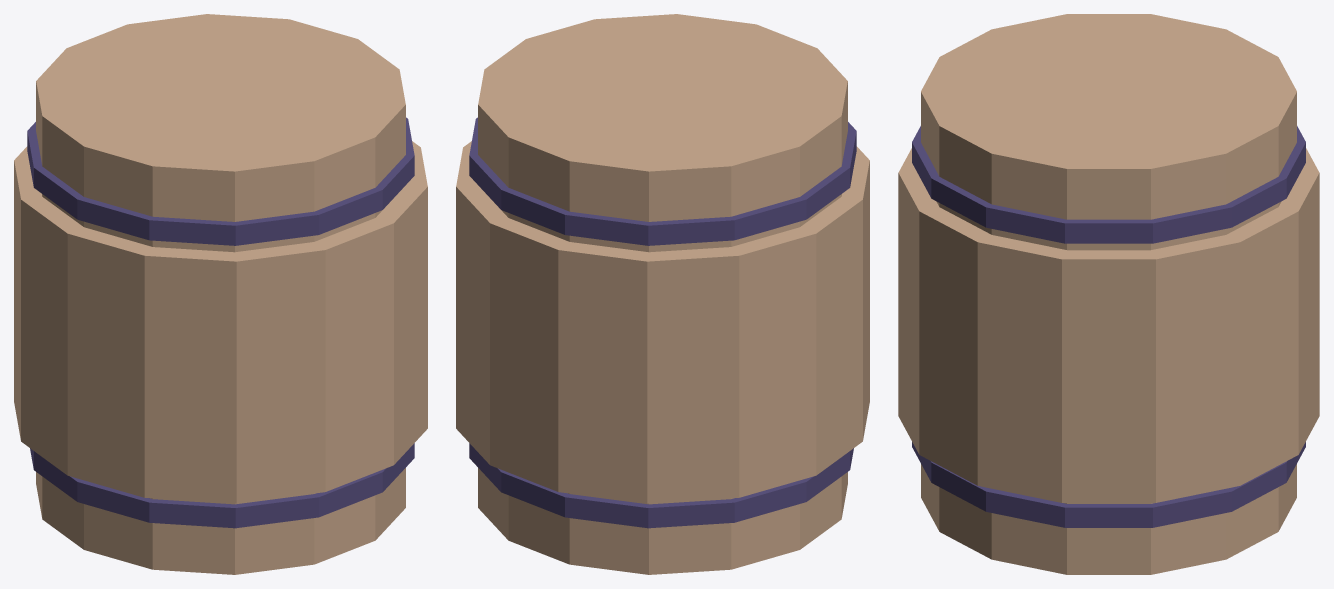
File: ship_barrel.glb
3 renders of one model, left to right at view 1: azimuth 30°, elevation 25°; view 2: azimuth 150°, elevation 25°; view 3: azimuth 270°, elevation 25°, orthographic.
Visible parts, largest first — view 1: ship_barrel.001; view 2: ship_barrel.001; view 3: ship_barrel.001.
Part boxes in pixels (<box>): ship_barrel.001: <box>14,14,427,574</box>; ship_barrel.001: <box>456,14,869,574</box>; ship_barrel.001: <box>898,14,1319,574</box>.
Size of the model in its own units: 0.9164 by 1 by 0.94.
